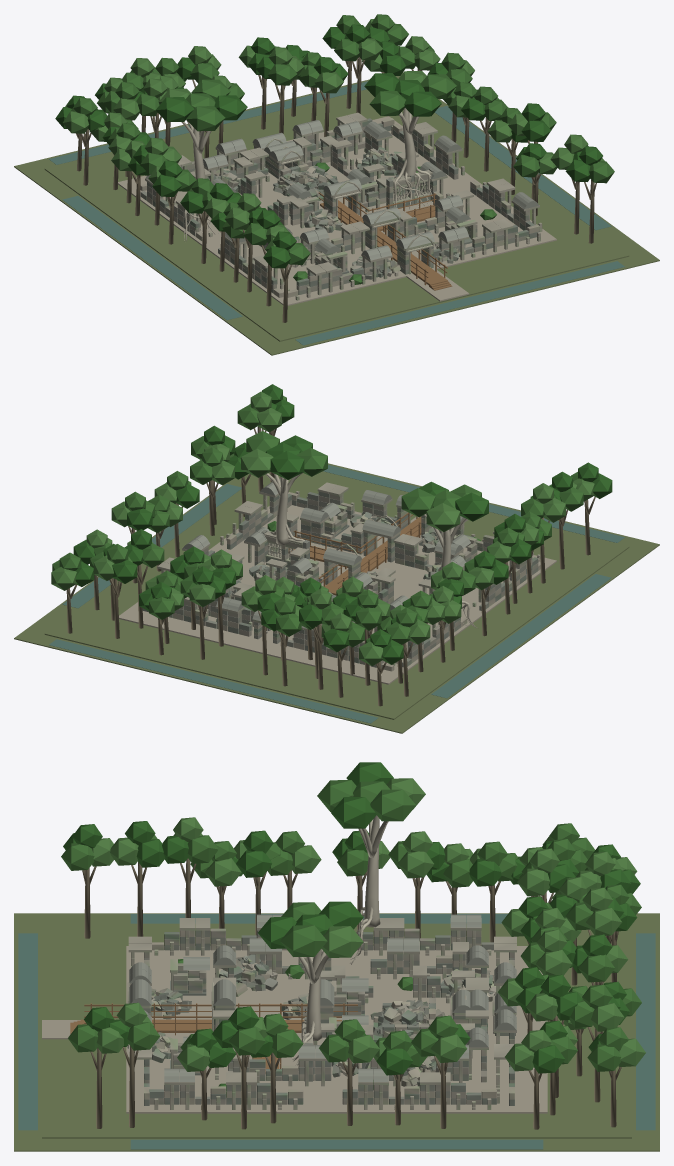
The model's file is beng-mealea-normal.glb.
The picture shows the model from 3 angles, top to bottom: view 1: azimuth 30°, elevation 25°; view 2: azimuth 150°, elevation 25°; view 3: azimuth 270°, elevation 25°; orthographic projection. The views are drawn at different scales.
Visible parts, largest first — view 1: Forest floor, Forest canopy 1, Forest canopy 0, Forest canopy 2, Carved sandstone, Moat water, Courtyard paving, Forest trunks, Corbelled stone roofs, Weathered sandstone 2, Weathered sandstone 1, Weathered sandstone 0 (+3 smaller); view 2: Forest floor, Forest canopy 0, Forest canopy 1, Forest canopy 2, Moat water, Forest trunks, Courtyard paving, Carved sandstone, Weathered sandstone 1, Weathered sandstone 2, Weathered sandstone 0, Corbelled stone roofs (+3 smaller); view 3: Forest floor, Forest canopy 1, Forest canopy 2, Forest canopy 0, Courtyard paving, Moat water, Carved sandstone, Forest trunks, Corbelled stone roofs, Weathered sandstone 1, Weathered sandstone 2, Weathered sandstone 0 (+3 smaller).
Part boxes in pixels (<box>): Forest floor: <box>14,72,659,355</box>; Forest canopy 1: <box>68,14,614,284</box>; Forest canopy 0: <box>55,24,602,268</box>; Forest canopy 2: <box>63,19,604,251</box>; Carved sandstone: <box>145,112,542,300</box>; Moat water: <box>49,81,624,345</box>; Courtyard paving: <box>118,116,556,305</box>; Forest trunks: <box>76,57,596,322</box>; Corbelled stone roofs: <box>145,120,539,260</box>; Weathered sandstone 2: <box>147,118,539,289</box>; Weathered sandstone 1: <box>147,121,529,292</box>; Weathered sandstone 0: <box>140,132,529,294</box>; Forest floor: <box>14,463,659,733</box>; Forest canopy 0: <box>73,384,612,664</box>; Forest canopy 1: <box>52,395,583,647</box>; Forest canopy 2: <box>51,391,594,666</box>; Moat water: <box>49,465,624,723</box>; Forest trunks: <box>66,427,595,706</box>; Courtyard paving: <box>119,505,556,684</box>; Carved sandstone: <box>157,482,540,665</box>; Weathered sandstone 1: <box>179,494,538,665</box>; Weathered sandstone 2: <box>142,491,538,663</box>; Weathered sandstone 0: <box>168,498,538,668</box>; Corbelled stone roofs: <box>182,478,470,629</box>; Forest floor: <box>14,913,659,1151</box>; Forest canopy 1: <box>61,780,641,1097</box>; Forest canopy 2: <box>92,778,645,1071</box>; Forest canopy 0: <box>63,762,640,1075</box>; Courtyard paving: <box>42,946,547,1113</box>; Moat water: <box>18,914,655,1149</box>; Carved sandstone: <box>127,918,516,1109</box>; Forest trunks: <box>82,858,621,1129</box>; Corbelled stone roofs: <box>129,914,516,1081</box>; Weathered sandstone 1: <box>144,928,514,1104</box>; Weathered sandstone 2: <box>144,932,514,1105</box>; Weathered sandstone 0: <box>127,930,515,1104</box>.
Bounding box in the file's own units: 40 × 14.08 × 46.
